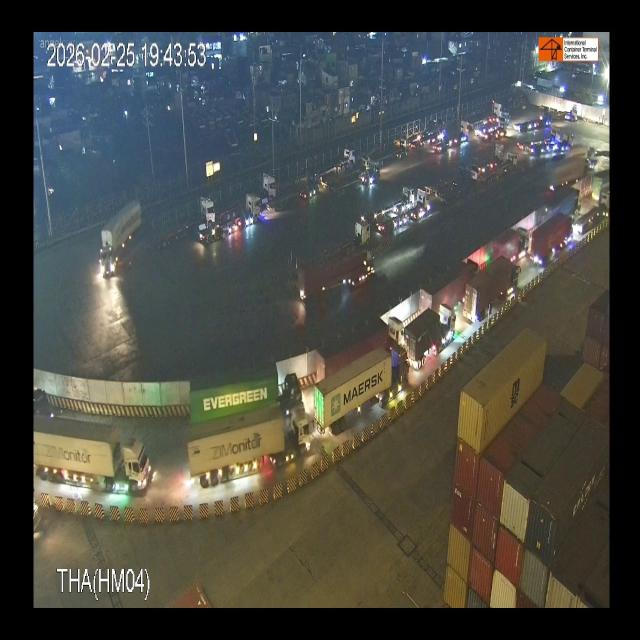truck: (29, 416, 154, 499), (315, 309, 408, 380), (179, 419, 313, 465), (317, 351, 411, 409), (186, 377, 304, 417), (464, 254, 522, 328), (95, 189, 141, 271), (407, 309, 461, 367), (418, 260, 476, 314), (150, 192, 208, 244), (527, 211, 575, 268), (489, 220, 530, 264), (538, 178, 579, 220), (220, 201, 263, 235), (258, 170, 282, 204)
